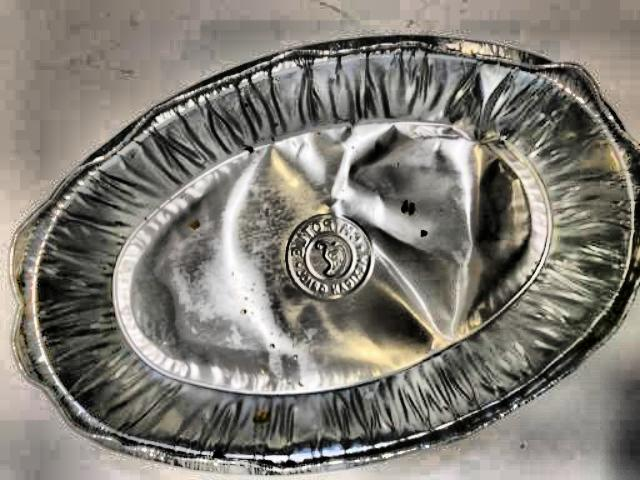Almennt: (0, 19, 640, 480)
